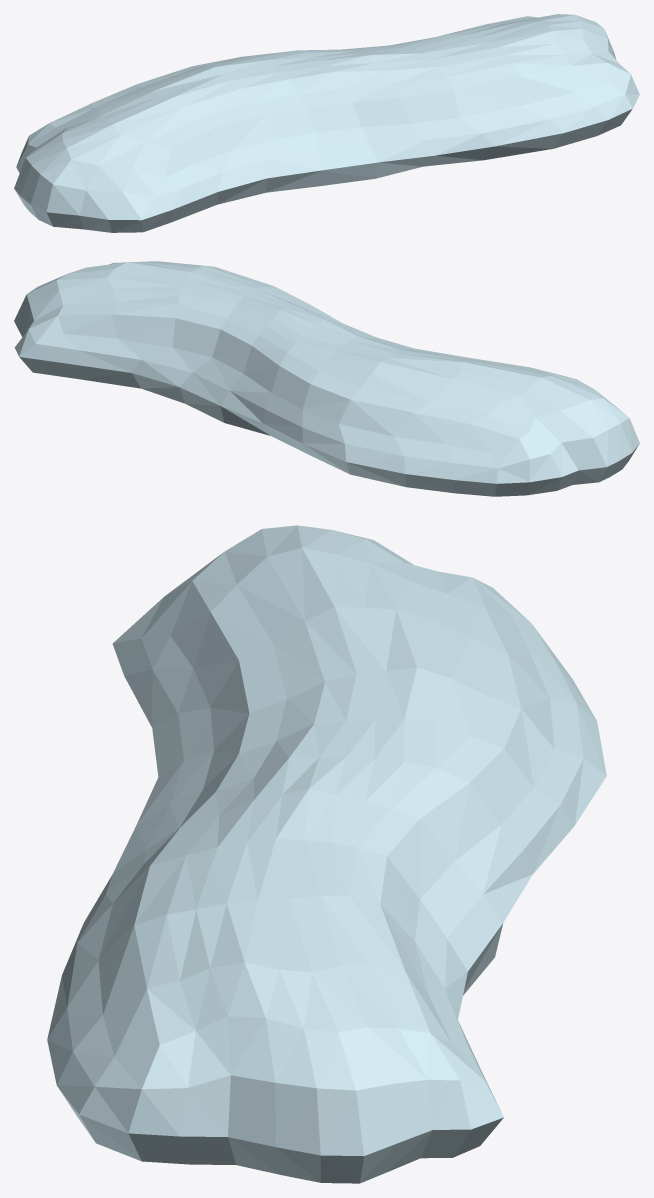
File: SM_Env_Dirt_Mound_01_Snow.fbx
3 renders of one model, top to bottom at view 1: azimuth 30°, elevation 25°; view 2: azimuth 150°, elevation 25°; view 3: azimuth 270°, elevation 25°, orthographic. The views are drawn at different scales.
Parts seen in each view (by area): view 1: SM_Env_Dirt_Mound_01_Snow; view 2: SM_Env_Dirt_Mound_01_Snow; view 3: SM_Env_Dirt_Mound_01_Snow.
Boxes of the visible parts, x1=… form: SM_Env_Dirt_Mound_01_Snow: x1=14, y1=14, x2=639, y2=232; SM_Env_Dirt_Mound_01_Snow: x1=14, y1=261, x2=639, y2=496; SM_Env_Dirt_Mound_01_Snow: x1=47, y1=525, x2=606, y2=1183.
Bounding box in the file's own units: 1986 × 255 × 811.
